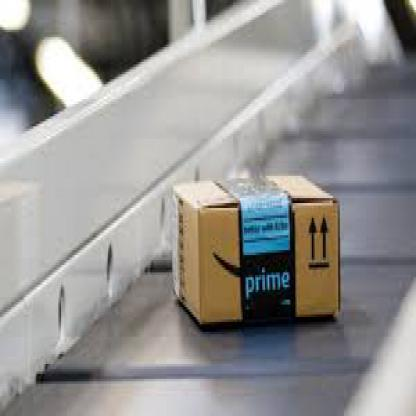package: (171, 173, 343, 335)
